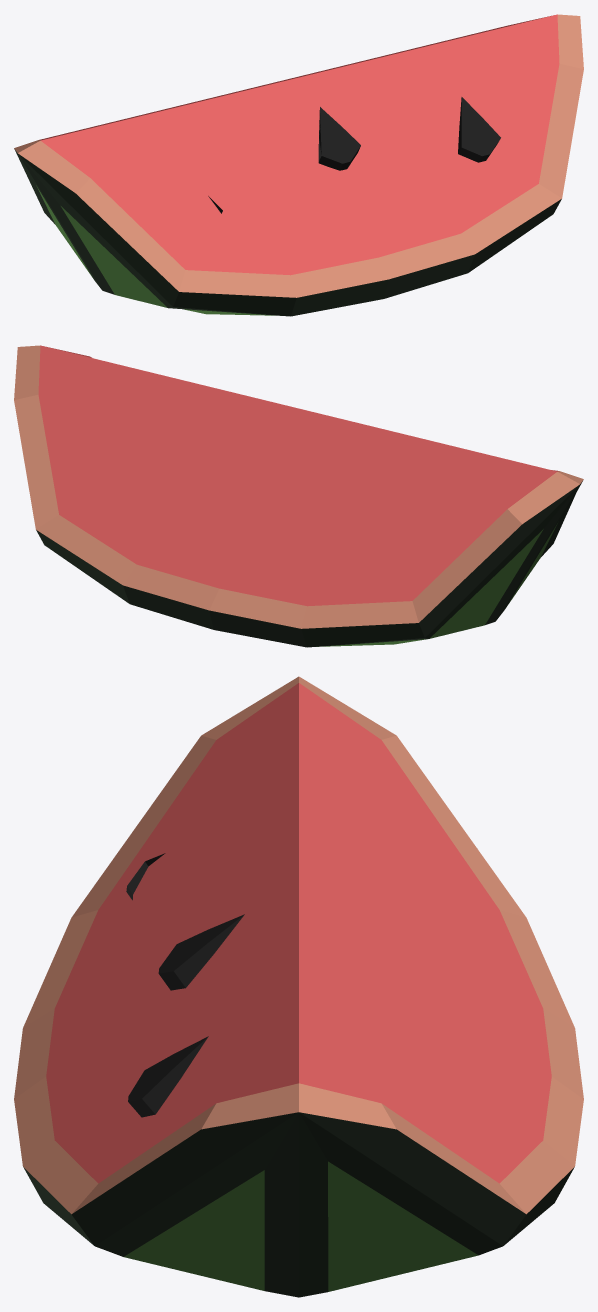
The model's file is Watermelon Slice.fbx.
3 views of the same model, one above another, from view 1: azimuth 30°, elevation 25°; view 2: azimuth 150°, elevation 25°; view 3: azimuth 270°, elevation 25° (orthographic). The views are drawn at different scales.
Visible parts, largest first — view 1: Watermelon Slice; view 2: Watermelon Slice; view 3: Watermelon Slice.
Boxes of the visible parts, bbox=[...] form: Watermelon Slice: bbox=[14, 14, 583, 316]; Watermelon Slice: bbox=[14, 345, 583, 647]; Watermelon Slice: bbox=[14, 676, 583, 1297].
Size of the model in its own units: 39.97 by 14.88 by 22.09.
